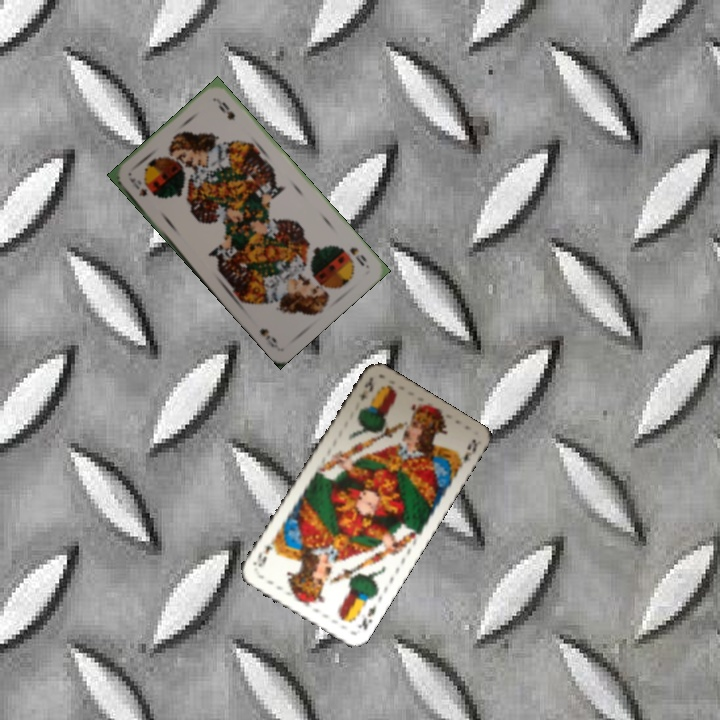EK: (354, 601, 379, 633), (356, 374, 376, 404)
SO: (346, 243, 371, 270), (125, 174, 150, 199)
